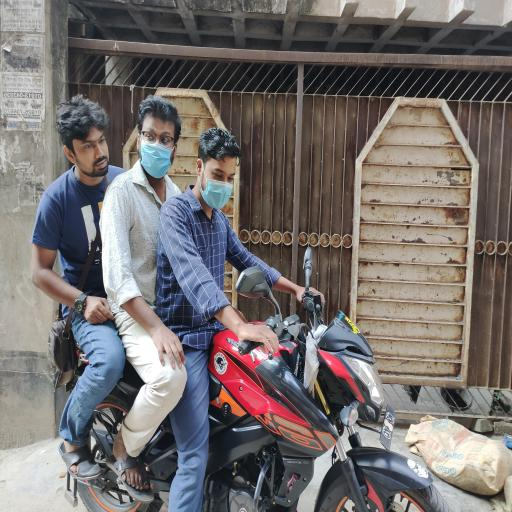overloading: (57, 248, 449, 510)
